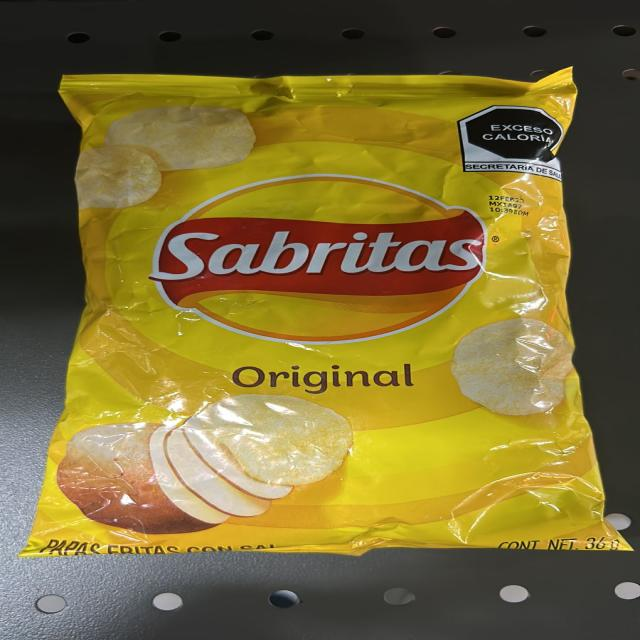sabritasOriginal: (90, 77, 565, 560)
